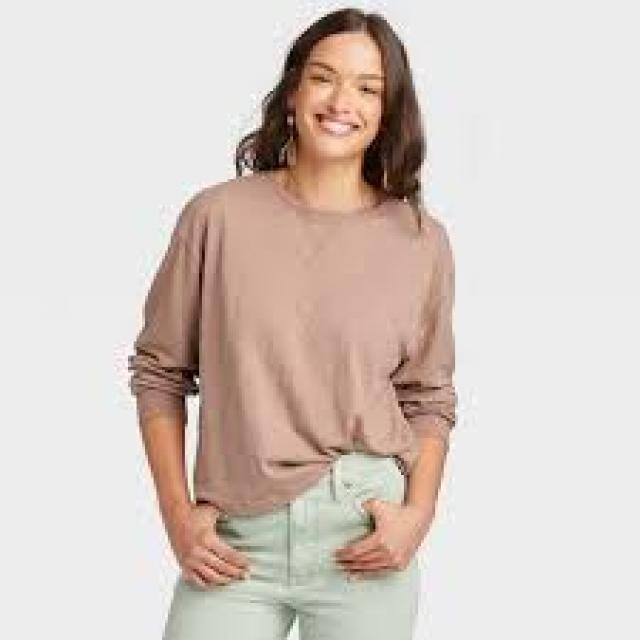plain: (75, 160, 519, 506)
